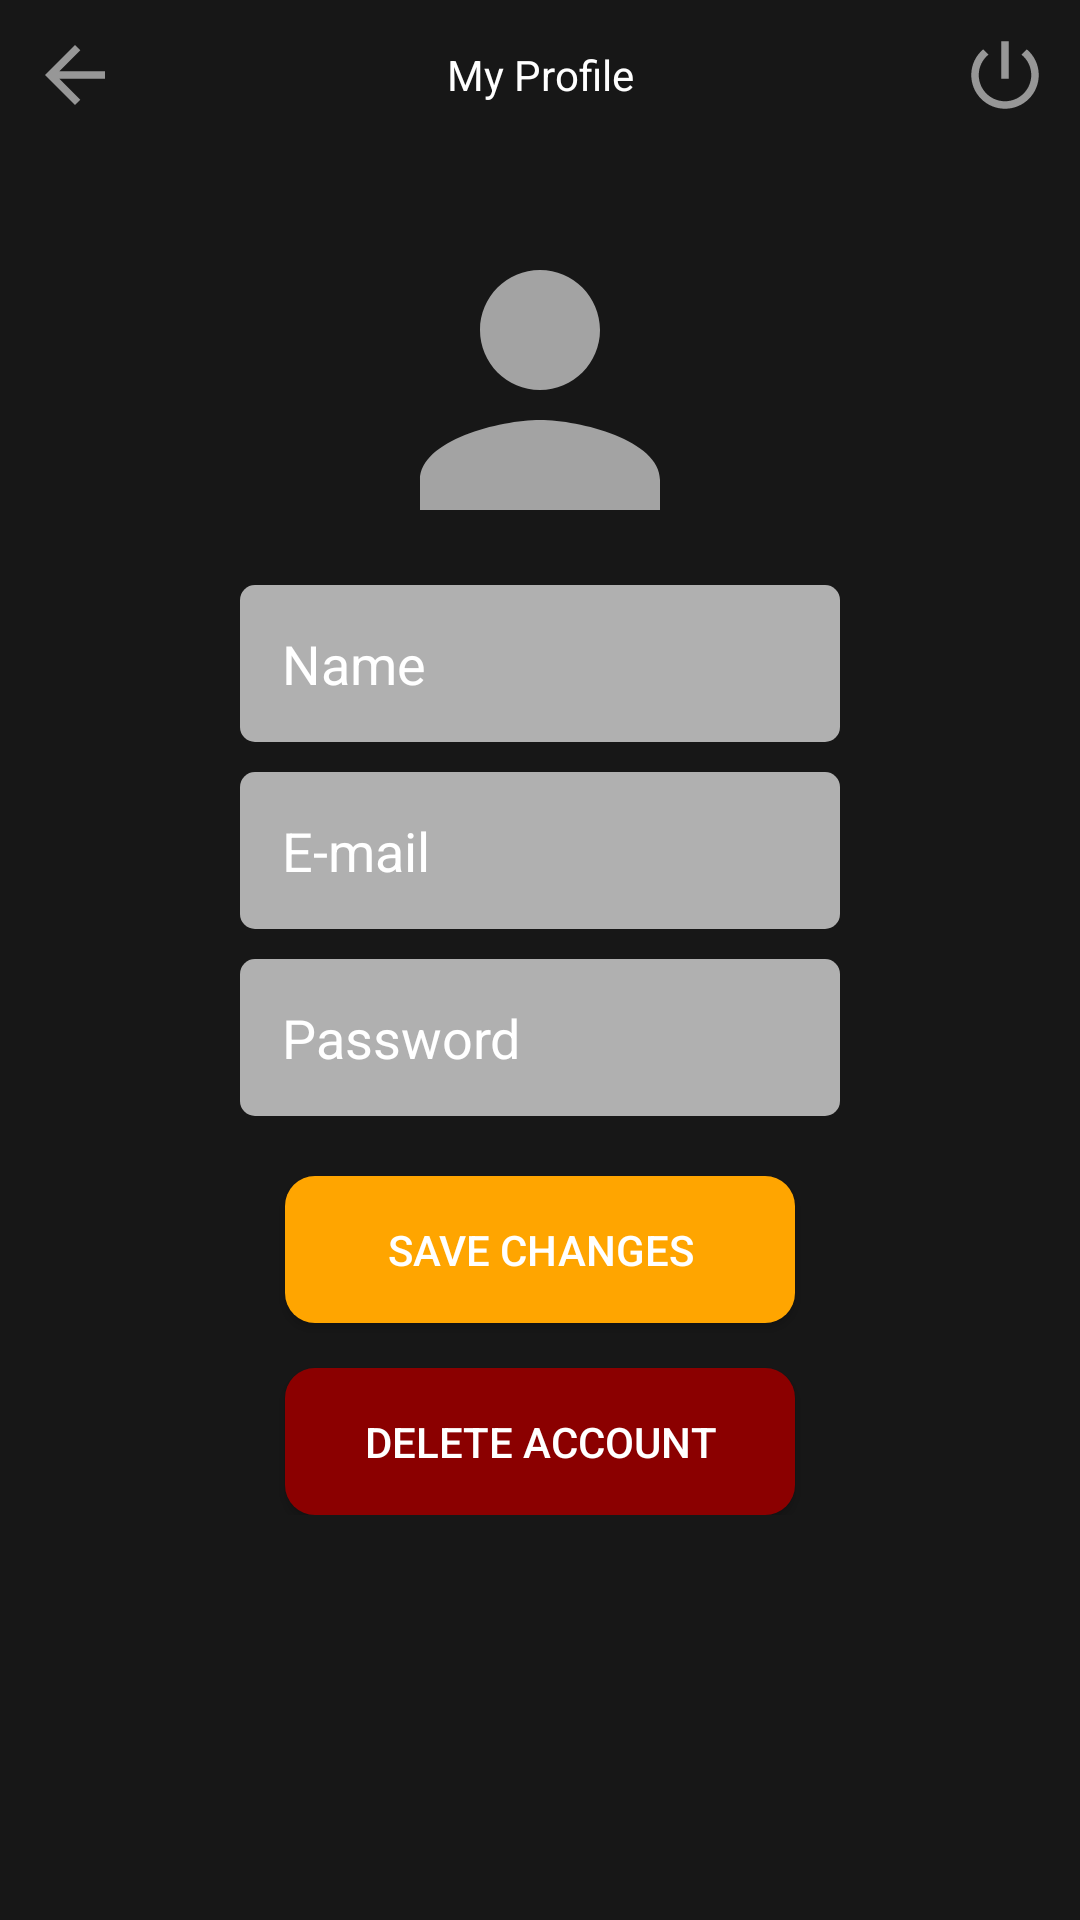

Locate icon controls on the screen. Image size 1080×1920, boxes as (x1, y1, x2, y2).
backarrow: (45, 45, 105, 105)
noprofile: (420, 270, 660, 510)
poweroff: (971, 41, 1039, 109)
